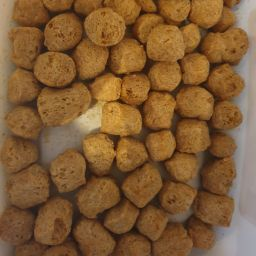Glycine max(soyabean): (3, 5, 256, 256)
